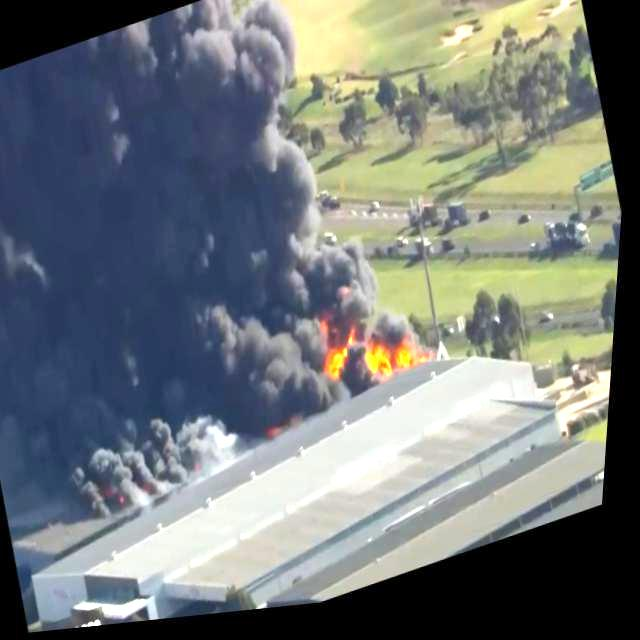fire: (358, 340, 424, 400), (318, 334, 367, 392)
